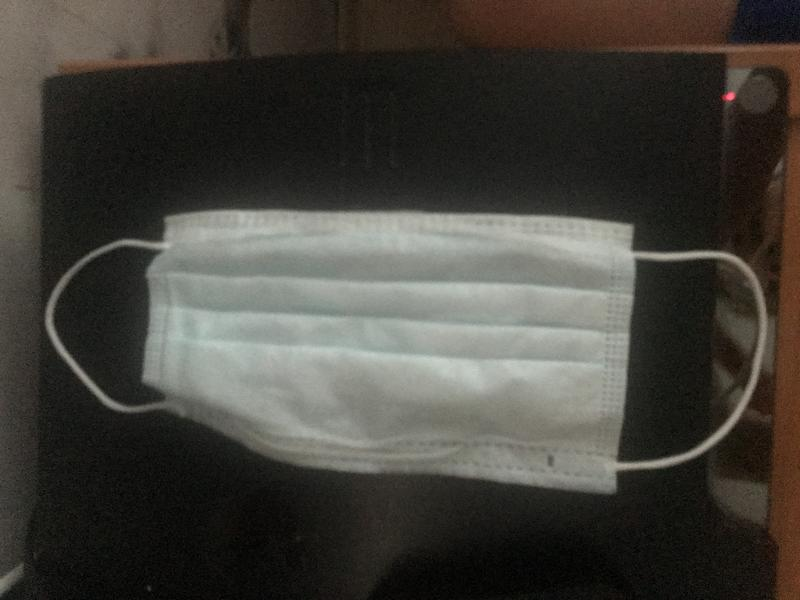medical_mask: (45, 209, 766, 490)
